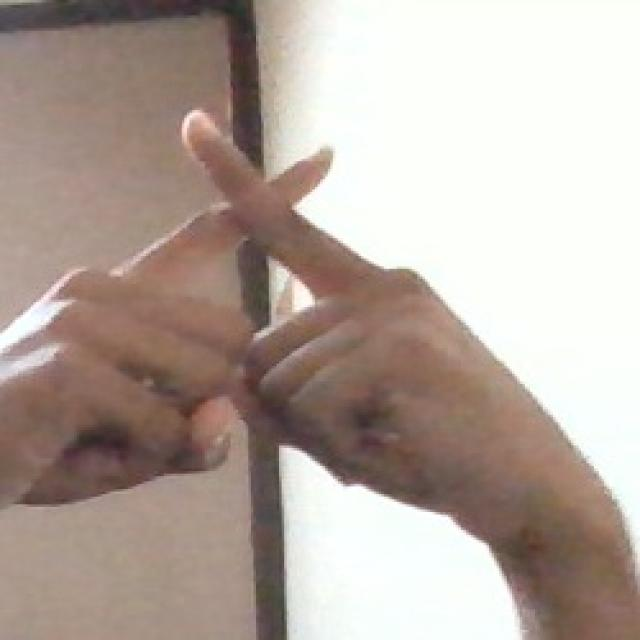Alphabet-X: (4, 93, 506, 561)
